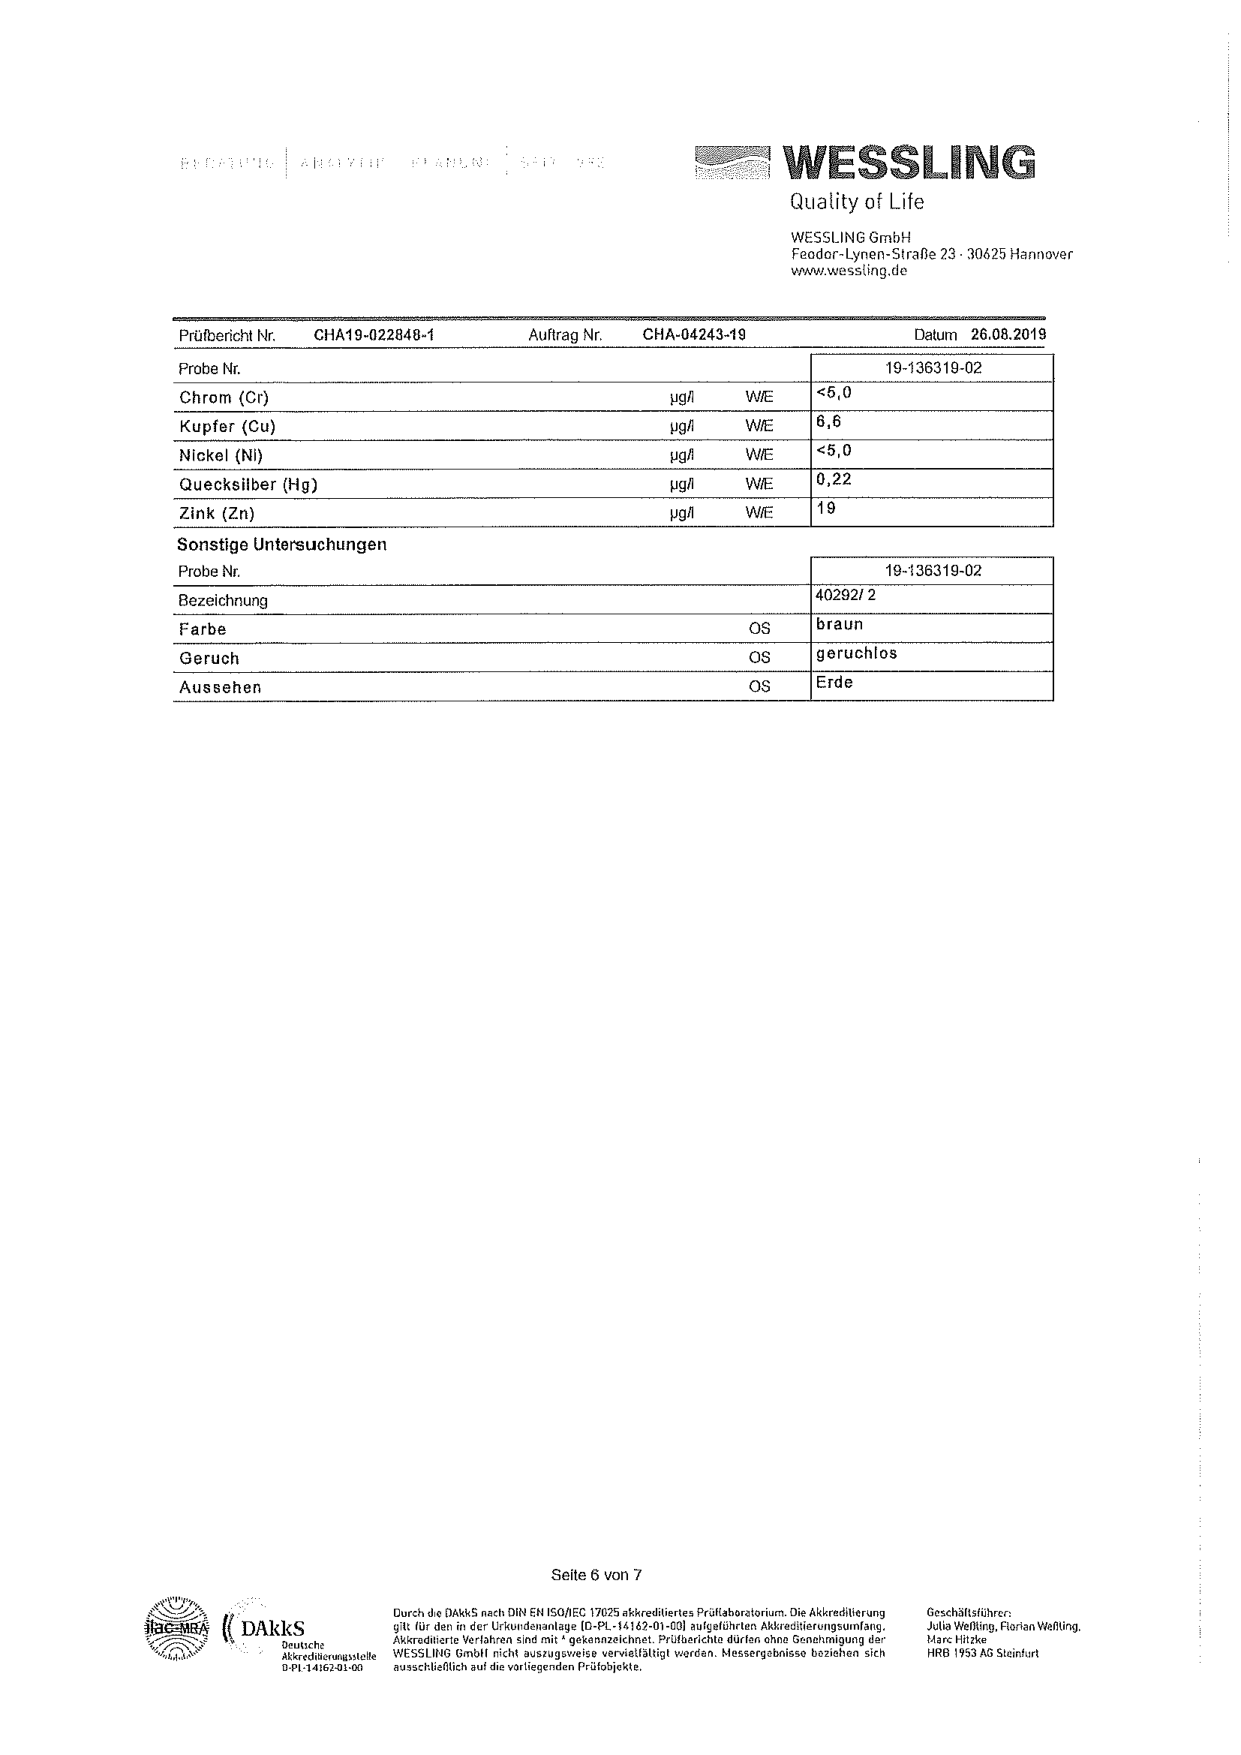table: (158, 350, 1064, 530), (145, 553, 1069, 720)
